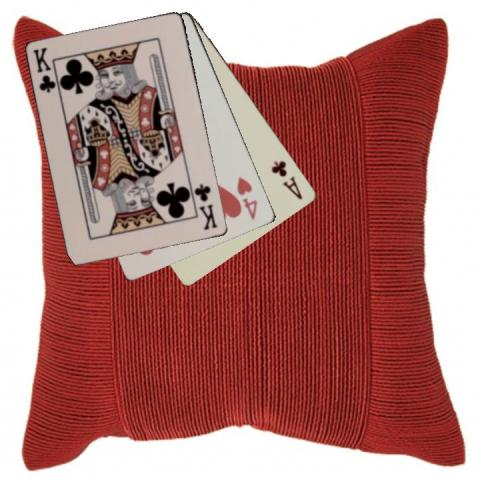4h: (235, 174, 259, 222)
Ac: (269, 158, 304, 202)
Kc: (30, 44, 57, 95), (193, 181, 219, 232)
